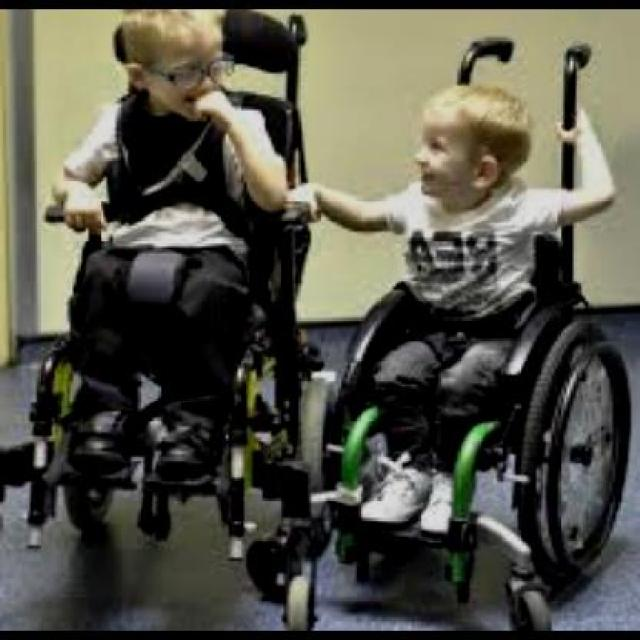wheelchairs: (258, 237, 630, 635), (7, 113, 308, 560)
